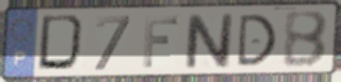7: (93, 15, 132, 72)
B: (282, 9, 331, 69)
D: (36, 13, 90, 75), (235, 12, 279, 69)
F: (141, 14, 181, 69)
N: (184, 12, 235, 71)
